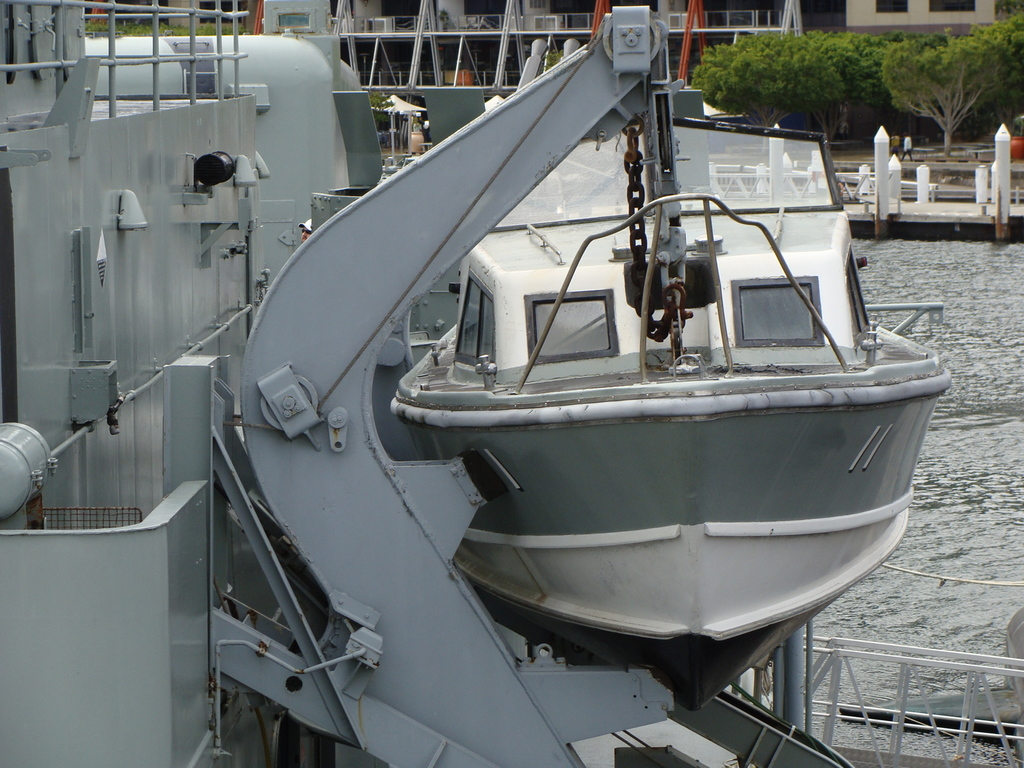boat: (363, 50, 967, 701)
